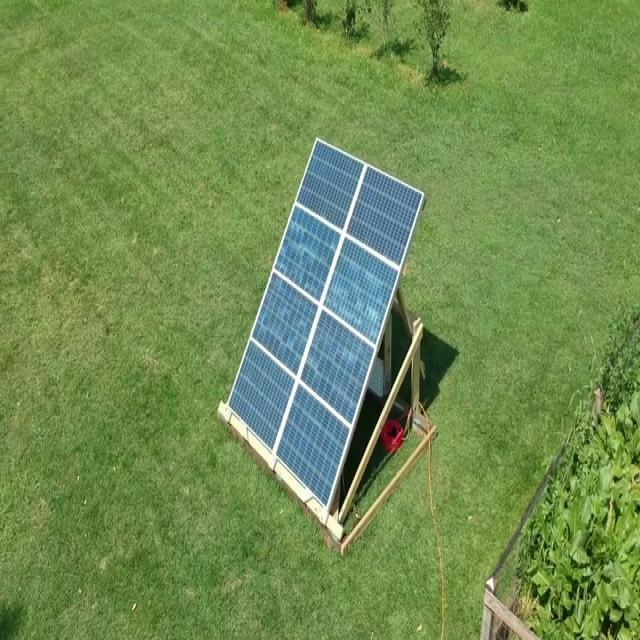Normal Solar Panel: (227, 138, 423, 511)
